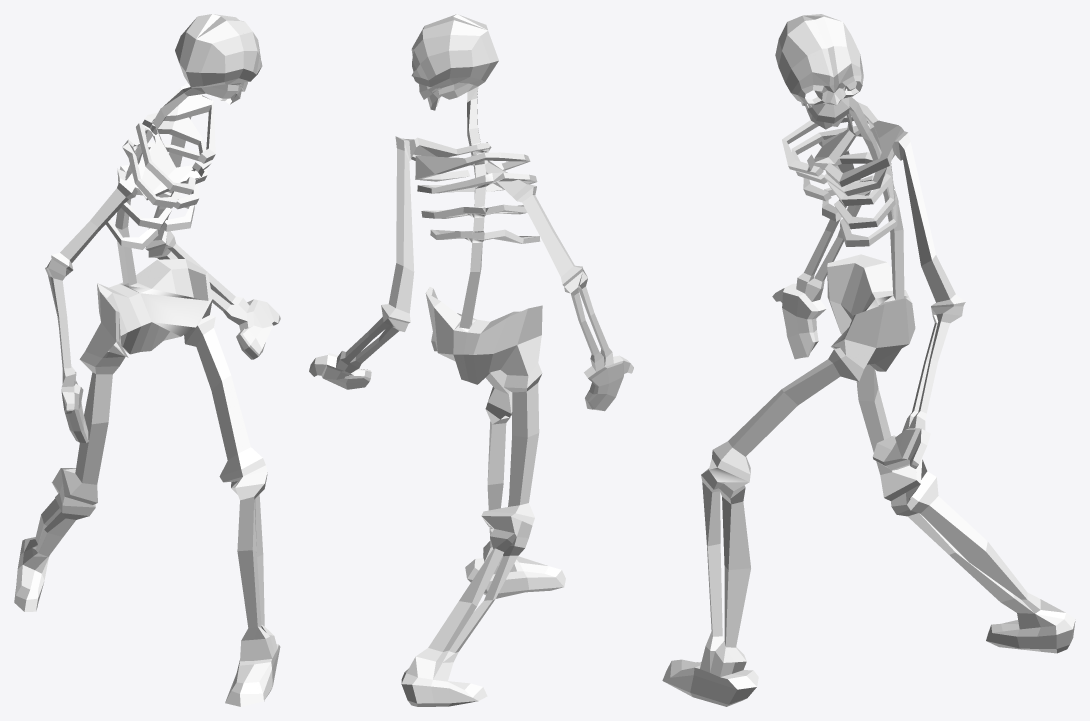
Rendered from SkeletonIdle(36).obj.
3 views of the same model, side by side, from view 1: azimuth 30°, elevation 25°; view 2: azimuth 150°, elevation 25°; view 3: azimuth 270°, elevation 25° (orthographic). The views are drawn at different scales.
Visible parts, largest first — view 1: Object002; view 2: Object002; view 3: Object002.
Part boxes in pixels (x1=…): Object002: x1=14, y1=14, x2=280, y2=706; Object002: x1=309, y1=14, x2=633, y2=706; Object002: x1=662, y1=14, x2=1075, y2=706.
Size of the model in its own units: 507 by 1108 by 608.
